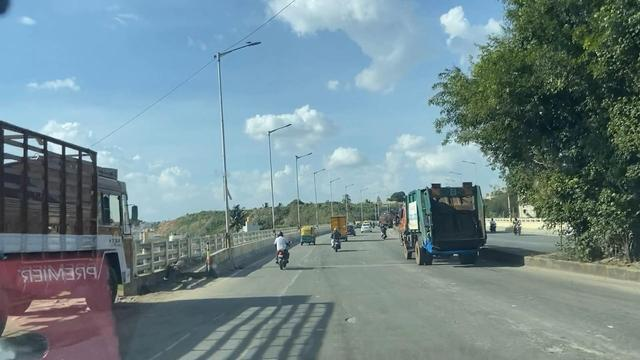HMV: (0, 112, 161, 329), (385, 169, 489, 269)
RoadDamages: (322, 303, 365, 335)
